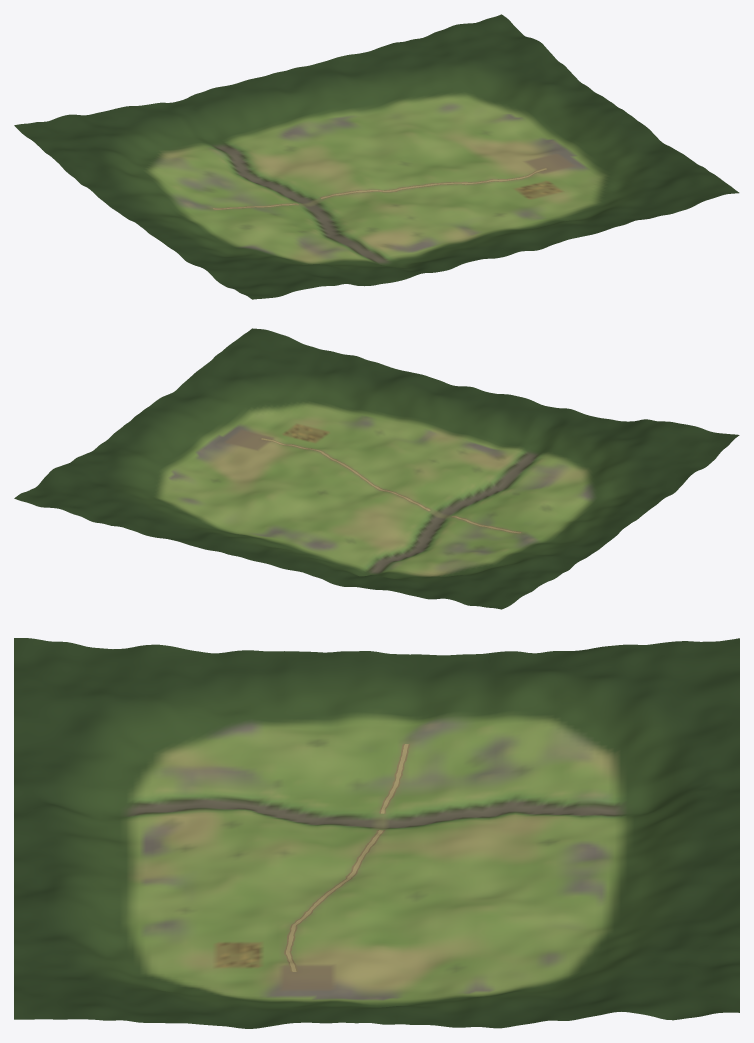
The model's file is terrain.glb.
The picture shows the model from 3 angles, top to bottom: view 1: azimuth 30°, elevation 25°; view 2: azimuth 150°, elevation 25°; view 3: azimuth 270°, elevation 25°; orthographic projection. The views are drawn at different scales.
Parts seen in each view (by area): view 1: terrain, path; view 2: terrain, path; view 3: terrain, path.
Boxes of the visible parts, bbox=[...] form: terrain: bbox=[14, 14, 739, 299]; path: bbox=[213, 168, 547, 209]; terrain: bbox=[14, 328, 739, 609]; path: bbox=[261, 438, 521, 533]; terrain: bbox=[14, 638, 739, 1028]; path: bbox=[284, 744, 410, 971].
Size of the model in its own units: 260 by 18.75 by 220.
